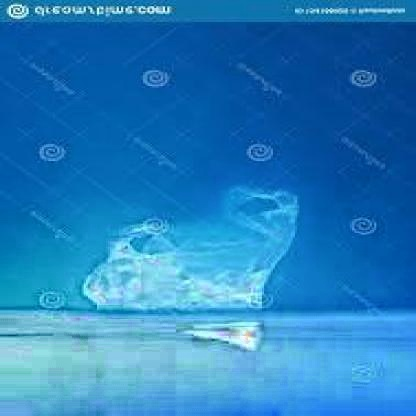pbag: (79, 183, 302, 310)
